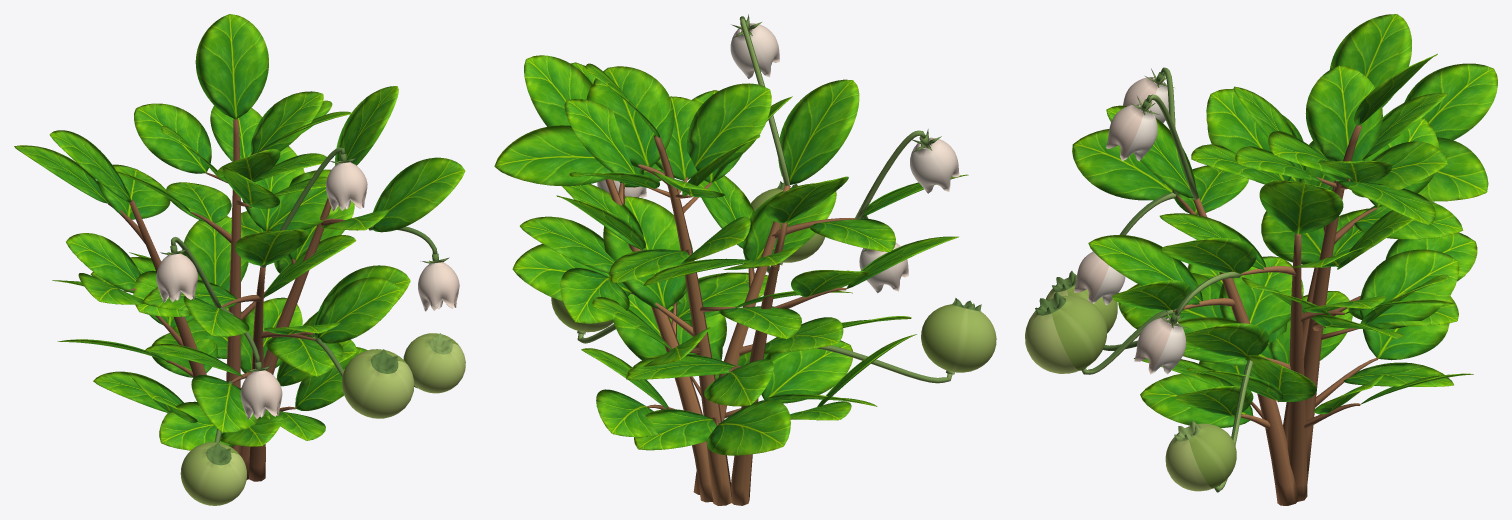
File: NP_Blueberry_Flowering.fbx
The picture shows the model from 3 angles, left to right: view 1: azimuth 30°, elevation 25°; view 2: azimuth 150°, elevation 25°; view 3: azimuth 270°, elevation 25°; orthographic projection. The views are drawn at different scales.
Parts seen in each view (by area): view 1: NP_Blueberry_Flowering; view 2: NP_Blueberry_Flowering; view 3: NP_Blueberry_Flowering.
Part boxes in pixels (bbox=[...]): NP_Blueberry_Flowering: bbox=[14, 14, 465, 505]; NP_Blueberry_Flowering: bbox=[494, 14, 996, 505]; NP_Blueberry_Flowering: bbox=[1025, 14, 1497, 505].
Size of the model in its own units: 67.35 by 72.76 by 66.52.
